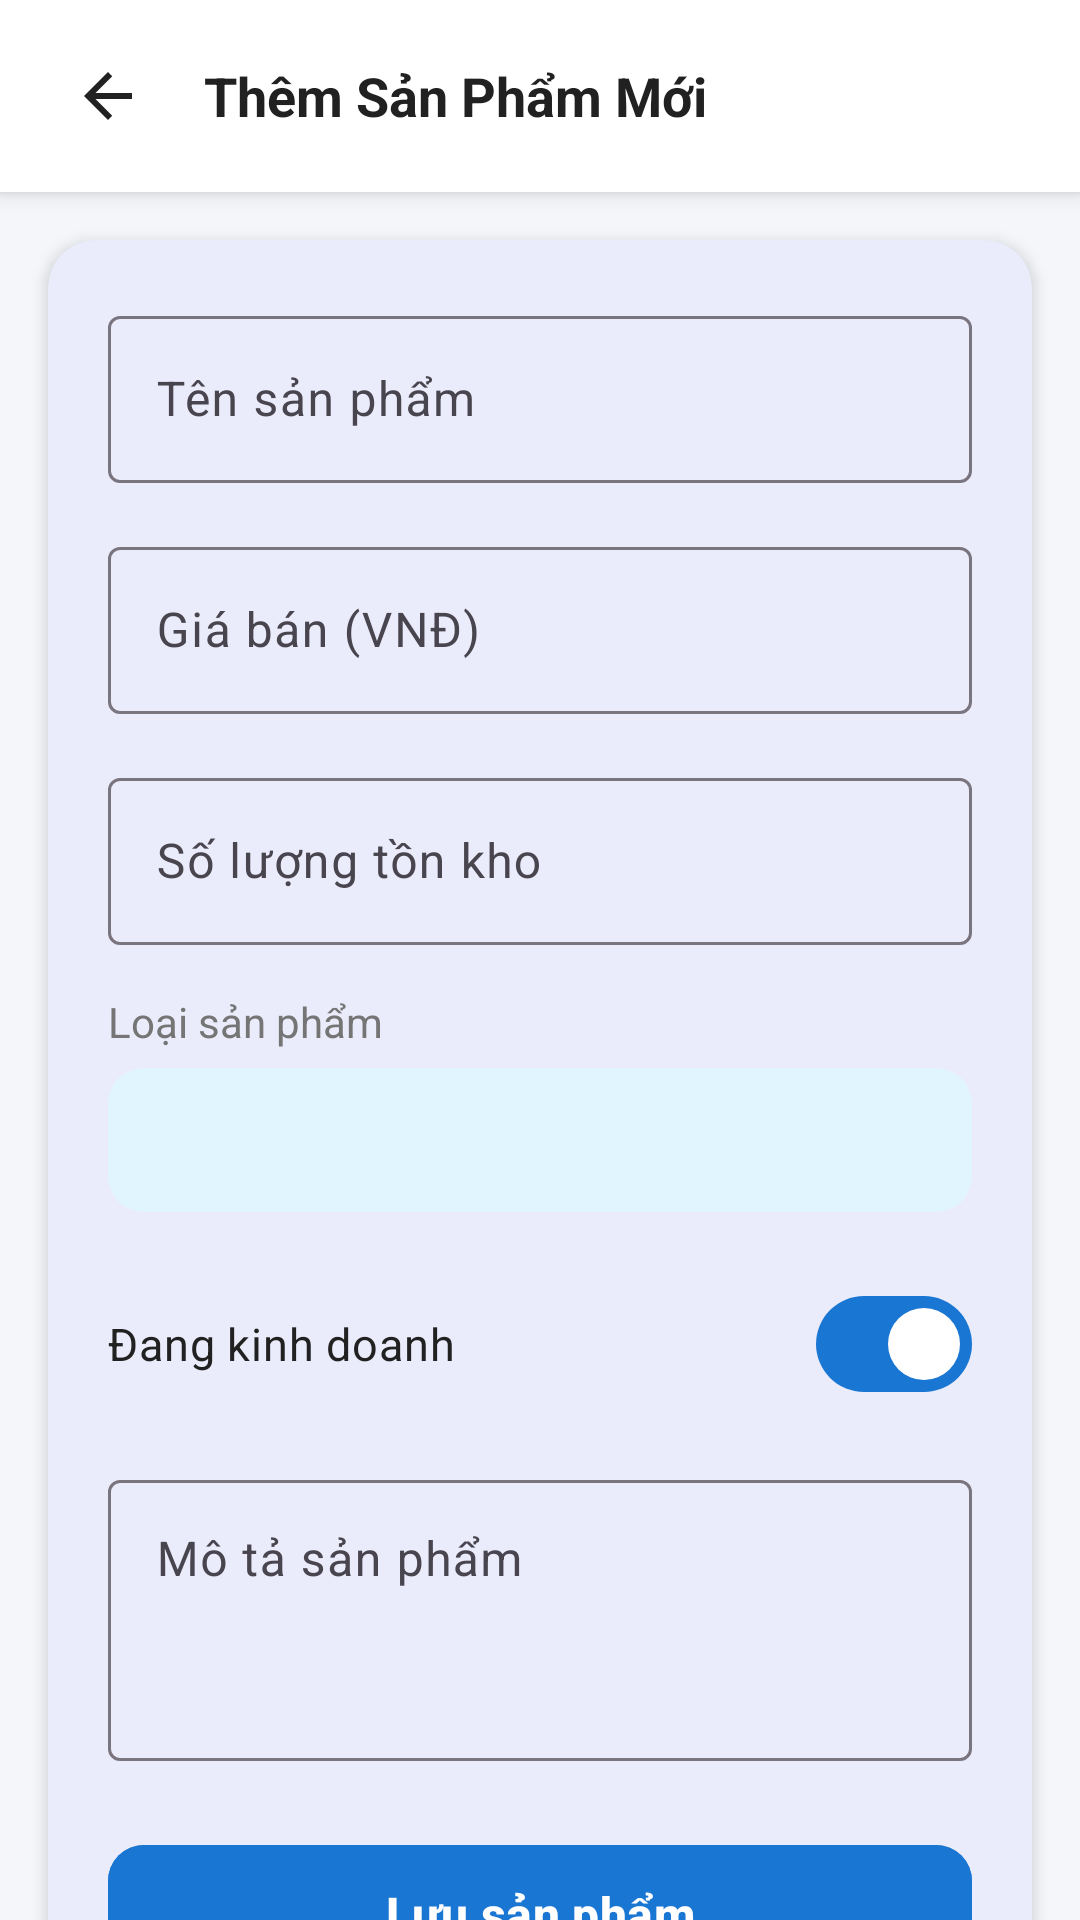

Icon bounding boxes for this 1080x1920 phone screenshot, format (x1, y1, x2, y2):
Quay lại: (84, 72, 132, 120)
